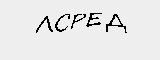Д: (106, 12, 128, 32)
Е: (86, 11, 104, 29)
Л: (35, 16, 54, 34)
Р: (69, 10, 88, 33)
С: (53, 12, 72, 35)
